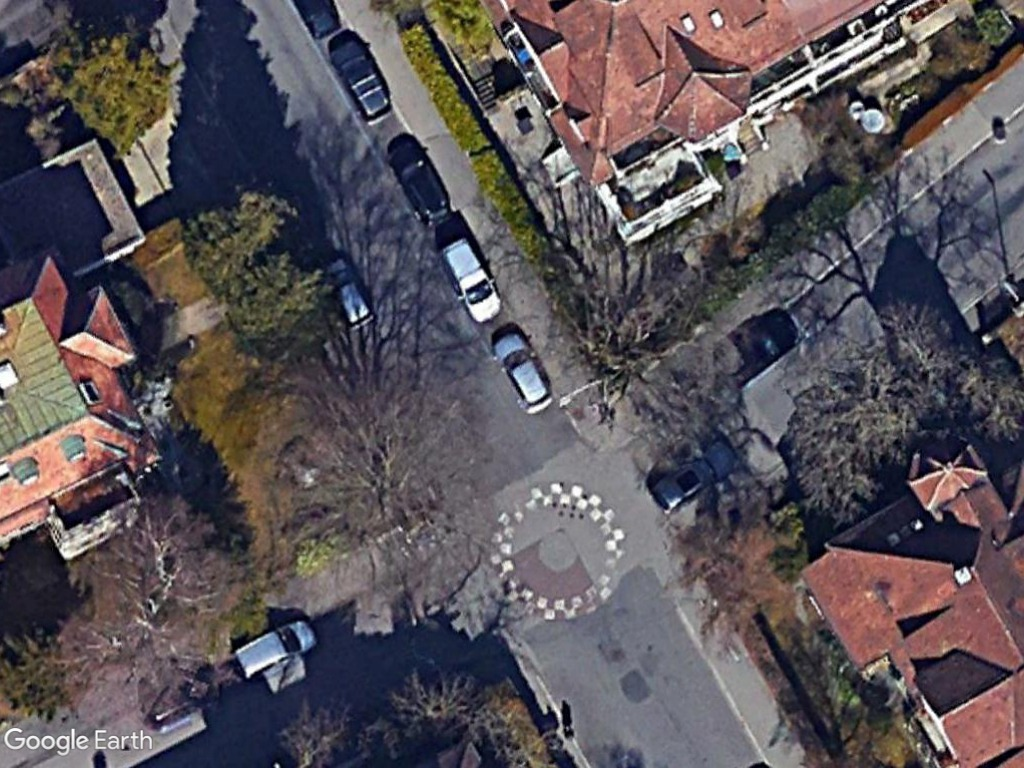car: (439, 237, 507, 327), (233, 615, 324, 680), (492, 331, 558, 417)
